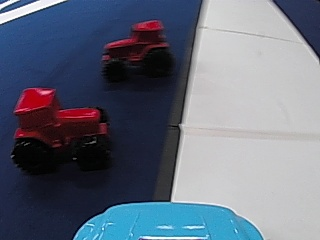tractor: (10, 81, 106, 173), (100, 17, 174, 82)
